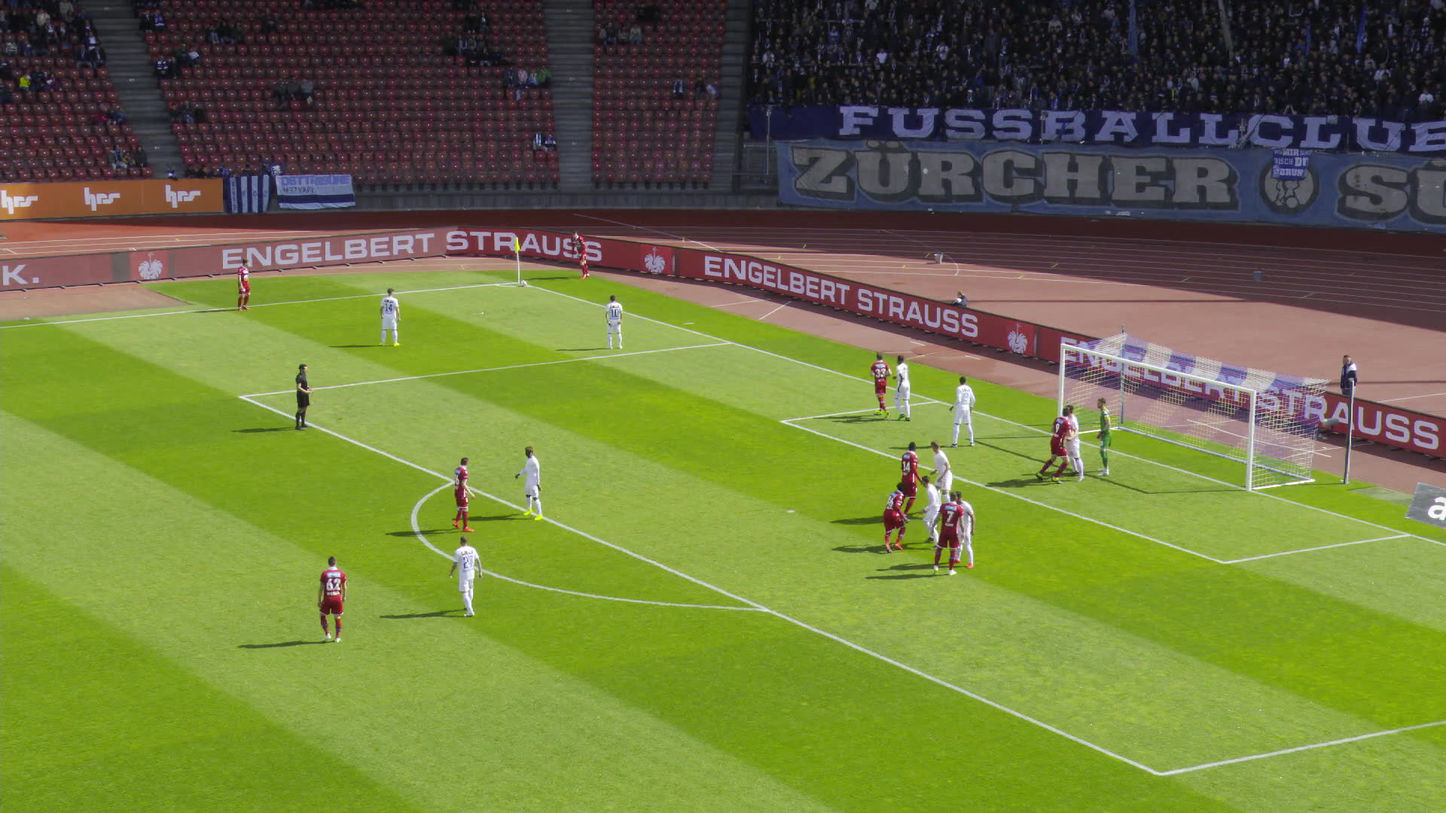ball: (519, 279, 527, 287)
player: (1036, 405, 1072, 483), (448, 535, 482, 615), (316, 555, 346, 642), (934, 492, 965, 574), (946, 375, 977, 448), (514, 444, 544, 519), (897, 447, 926, 519), (883, 483, 911, 553), (1060, 404, 1085, 482), (927, 440, 953, 513), (452, 456, 476, 531), (920, 474, 944, 542), (1094, 397, 1114, 477), (956, 490, 975, 568), (869, 351, 892, 415), (378, 287, 401, 346), (892, 355, 911, 421), (604, 294, 624, 349), (569, 230, 590, 279), (234, 258, 252, 312)
referee: (294, 363, 312, 430)
